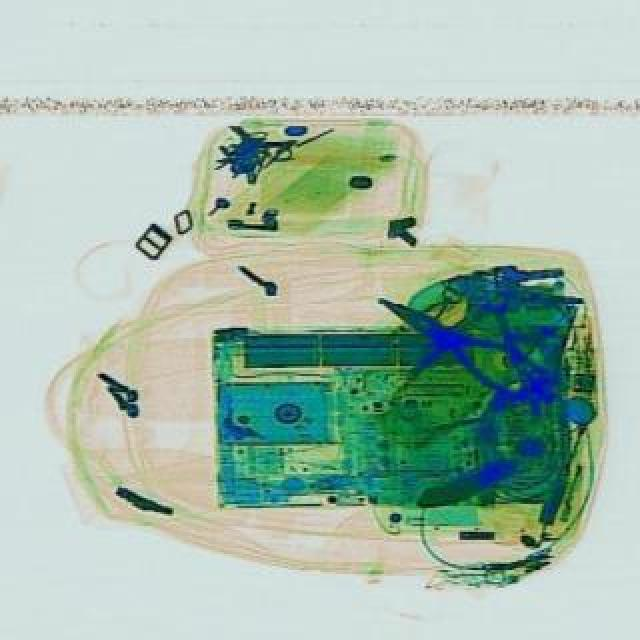wrench: (360, 276, 544, 404)
